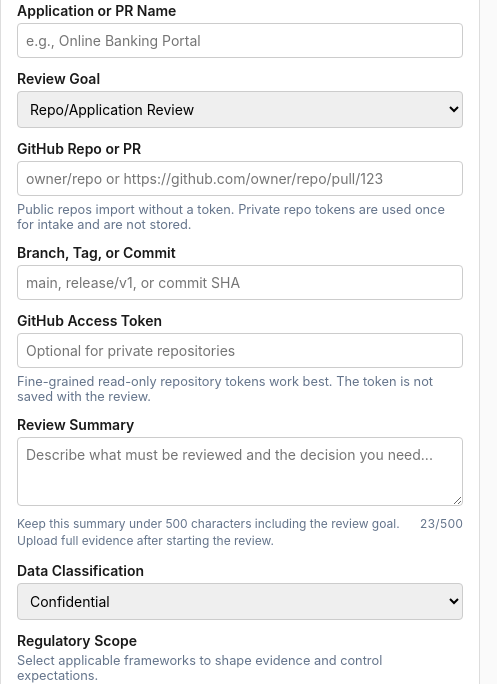
Test: IntakeForm › passes a one-time GitHub token for private repo intake and clears it
In the field labelled "Application or PR Name": (240, 40) x1=17 y1=23 x2=463 y2=58, type "Private Repo Review"
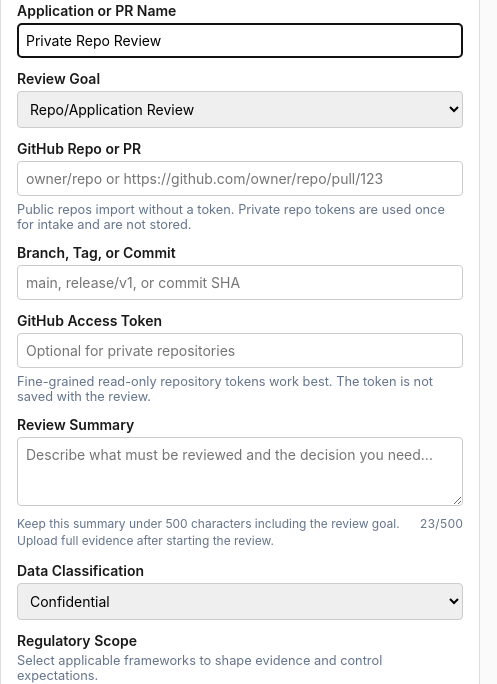
In the field labelled "GitHub Repo or PR": (240, 178) x1=17 y1=161 x2=463 y2=196, type "example-org/private-app"
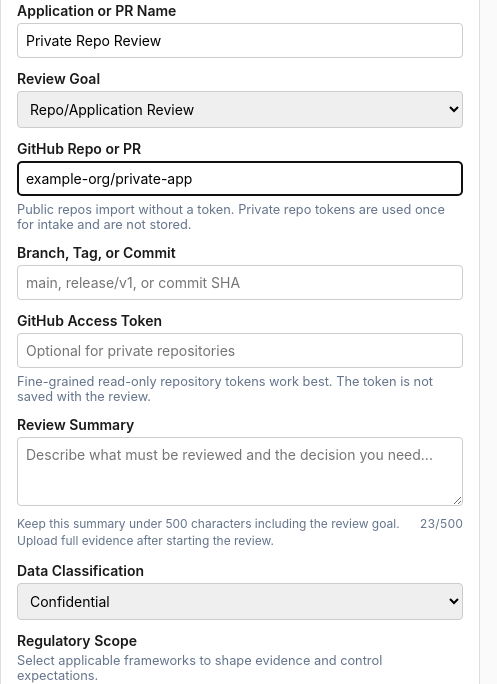
In the password field labelled "GitHub Access Token": (240, 350) x1=17 y1=333 x2=463 y2=368, type "github_pat_private"
(page scrolled)
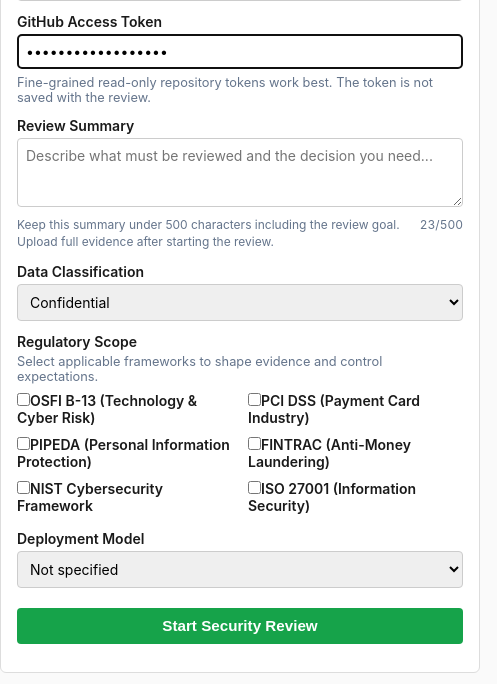
Click the button "Start Security Review": (240, 626) x1=17 y1=608 x2=463 y2=644
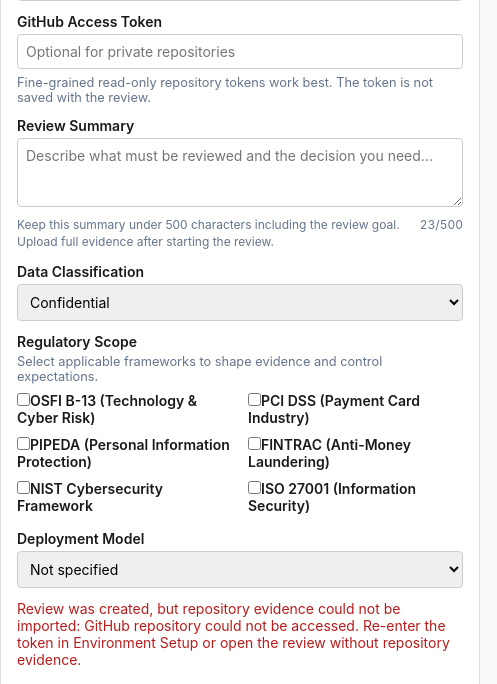
Now the password field labelled "GitHub Access Token" is empty, box x1=17 y1=34 x2=463 y2=69
Now the text "Re-enter the token in Environment Setup" is shown, box x1=17 y1=600 x2=450 y2=668
